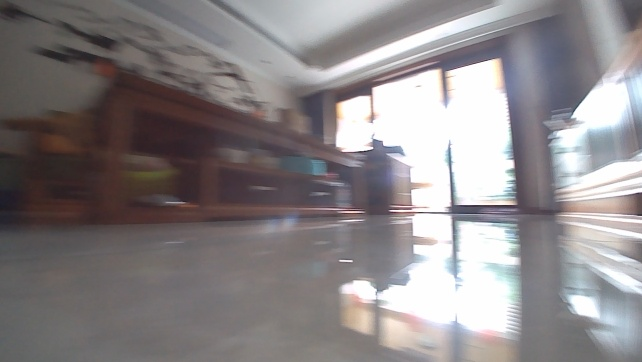tea_table: (86, 69, 372, 225)
